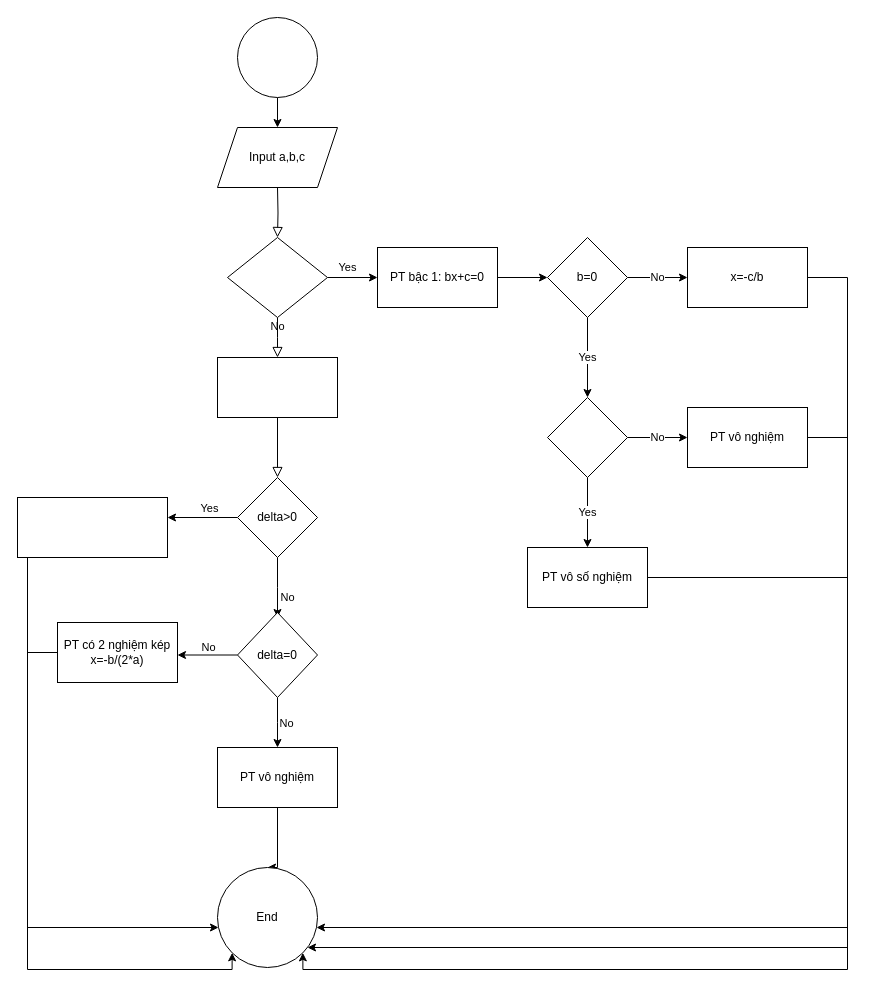
Some shapes in this 873 by 995 pixel diagram are drawn without their labels. Here are the shapes that lost their labels. From the top down, the centre of each, then its label:
[277,57]: Start
[277,277]: a=0
[277,387]: delta =b^2-4*a*c
[587,437]: c=0
[92,527]: PT có 2 nghiệm phân biệt x1=(-b+sqrt(delta))/(2*a) x2=(-b-sqrt(delta))/(2*a)
